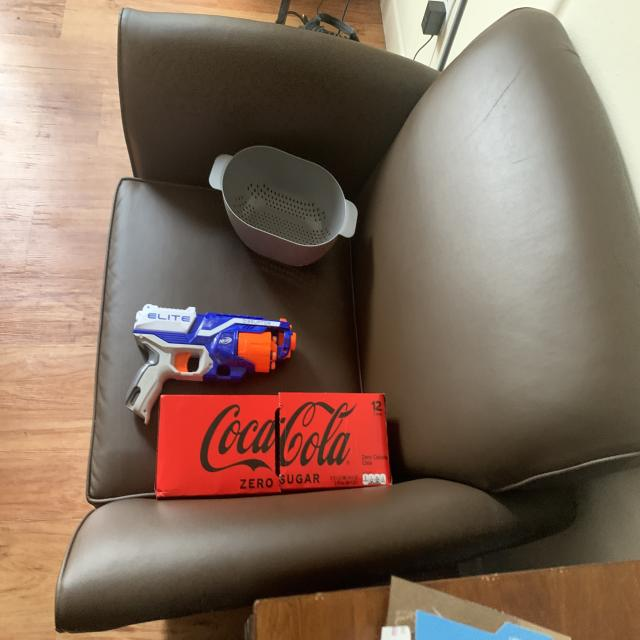nerf-maverik: (116, 291, 300, 436)
